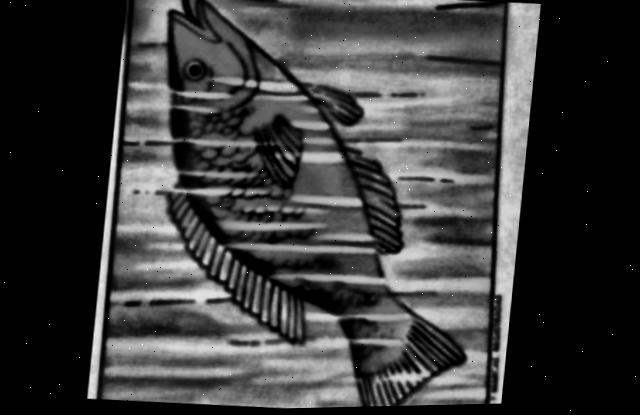El Pescado: (104, 0, 505, 410)
